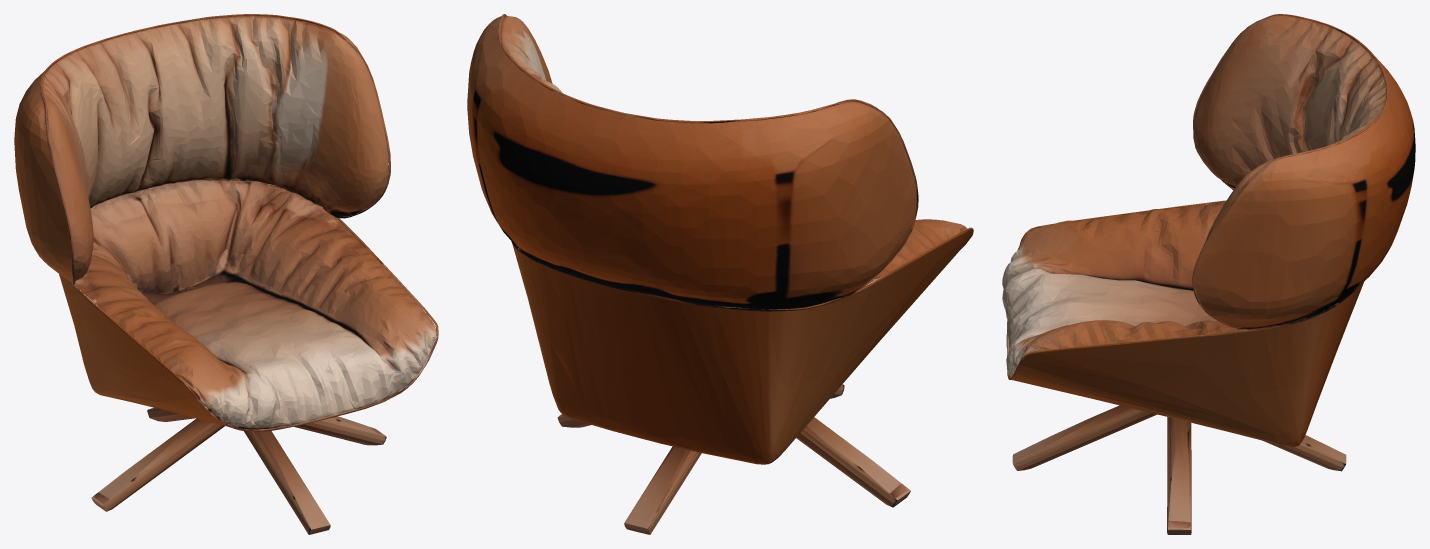
File: edited_mesh.glb
3 views of the same model, side by side, from view 1: azimuth 30°, elevation 25°; view 2: azimuth 150°, elevation 25°; view 3: azimuth 270°, elevation 25° (orthographic). The views are drawn at different scales.
Visible parts, largest first — view 1: solid_001_wire; view 2: solid_001_wire; view 3: solid_001_wire.
Boxes of the visible parts, bbox=[...] form: solid_001_wire: bbox=[14, 14, 438, 534]; solid_001_wire: bbox=[467, 14, 973, 534]; solid_001_wire: bbox=[1002, 14, 1415, 534].
Size of the model in its own units: 1.24 by 1.34 by 1.31.
Materials: 1 (1 with a texture image).
